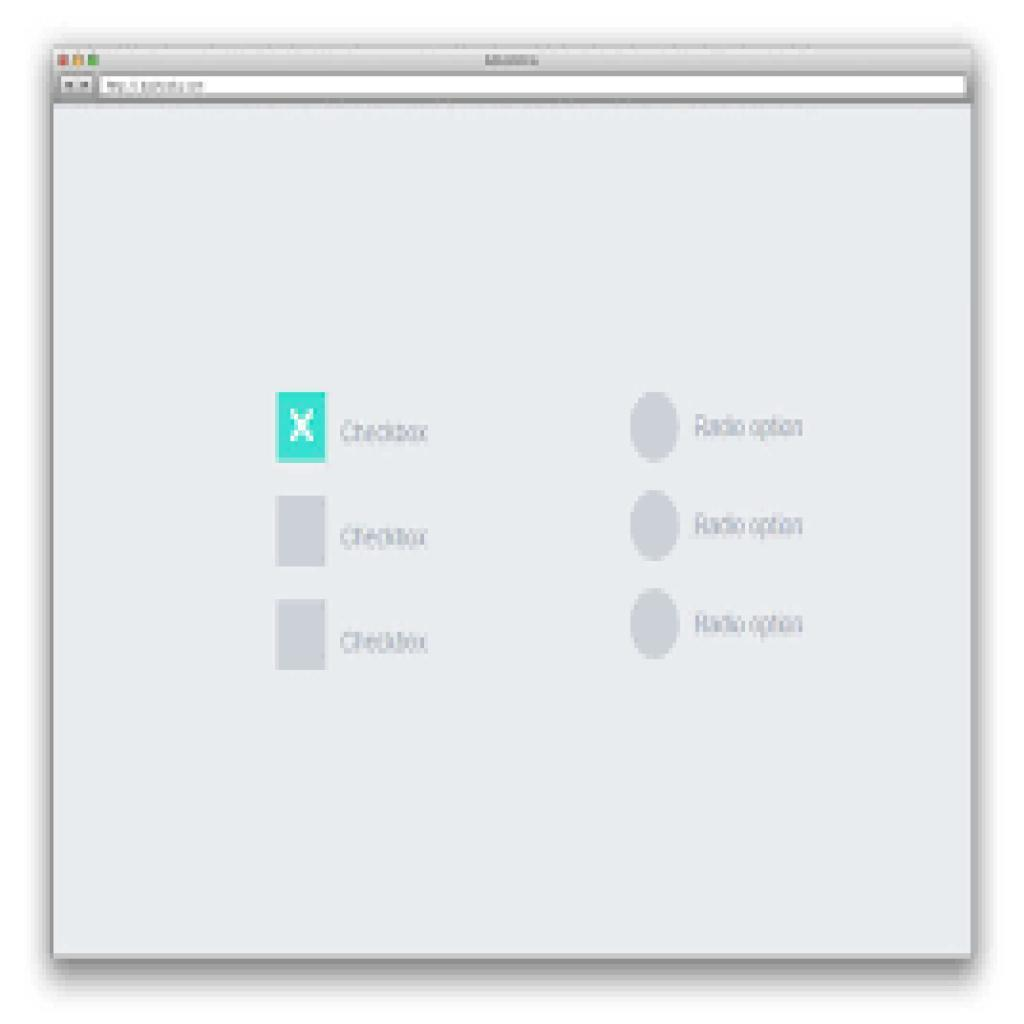checkbox: (276, 496, 328, 568), (276, 603, 330, 672), (279, 392, 326, 465)
label: (691, 507, 807, 543), (692, 607, 813, 641), (692, 410, 806, 444), (334, 415, 435, 449), (338, 521, 434, 554), (337, 630, 434, 660)
radio: (627, 481, 684, 566), (626, 385, 684, 467), (629, 586, 681, 663)
